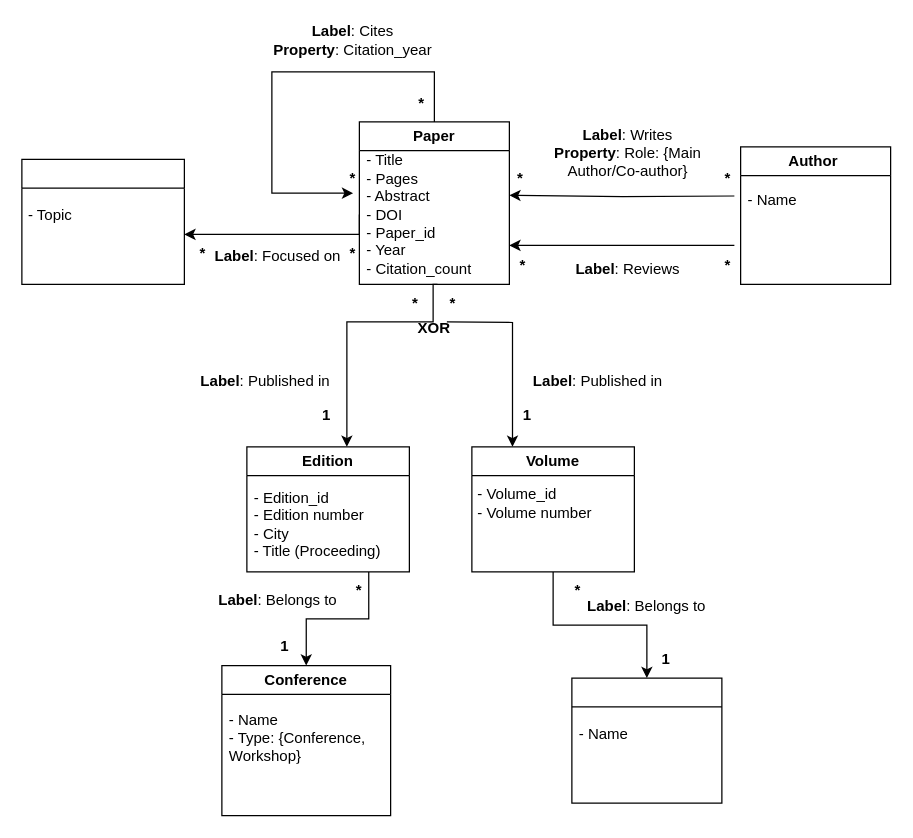
This 913x838 diagram has some shape labels left out. Here are the shapes that lost their labels. From the top down, the box of each, then its label:
(21, 158, 184, 284): Keyword
(571, 677, 722, 803): Journal
